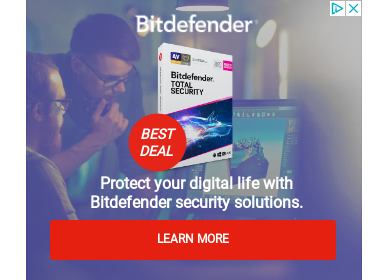fake_button: (48, 214, 341, 263)
